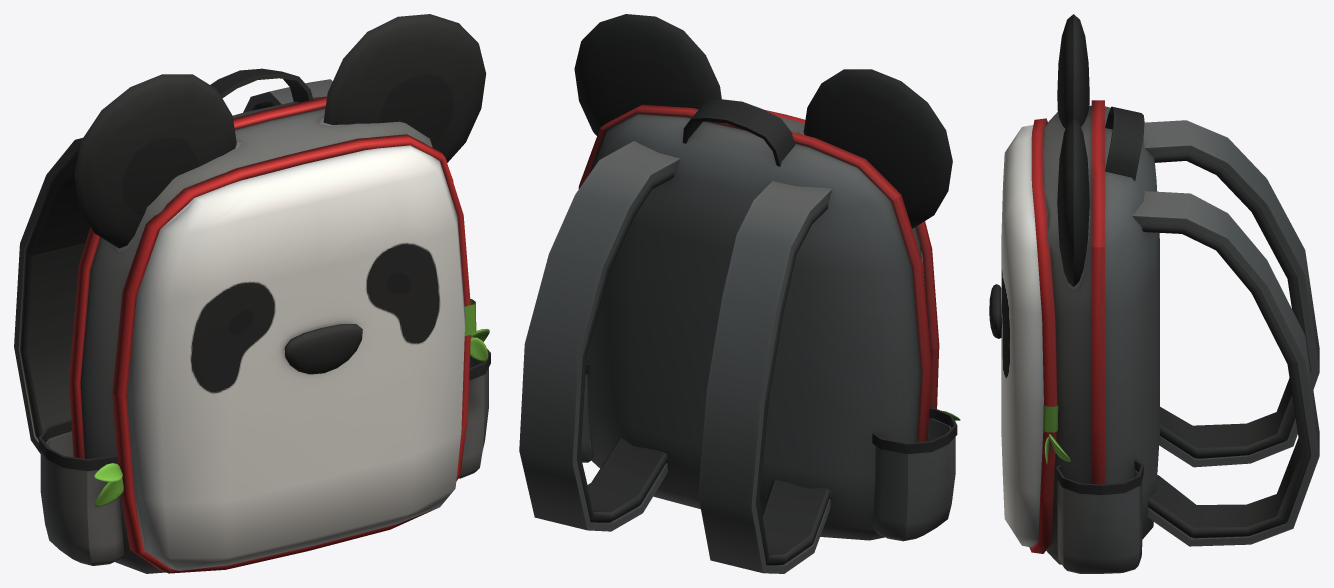
Rendered from Baby bag.fbx.
3 views of the same model, side by side, from view 1: azimuth 30°, elevation 25°; view 2: azimuth 150°, elevation 25°; view 3: azimuth 270°, elevation 25° (orthographic). The views are drawn at different scales.
Visible parts, largest first — view 1: bag_bag_0; view 2: bag_bag_0; view 3: bag_bag_0.
Boxes of the visible parts, x1,y1,x2,y2 form: bag_bag_0: [14, 14, 490, 573]; bag_bag_0: [519, 14, 960, 573]; bag_bag_0: [989, 14, 1319, 573].
Bounding box in the file's own units: 85.06 × 93.24 × 63.57.
1 material, 1 textured.
